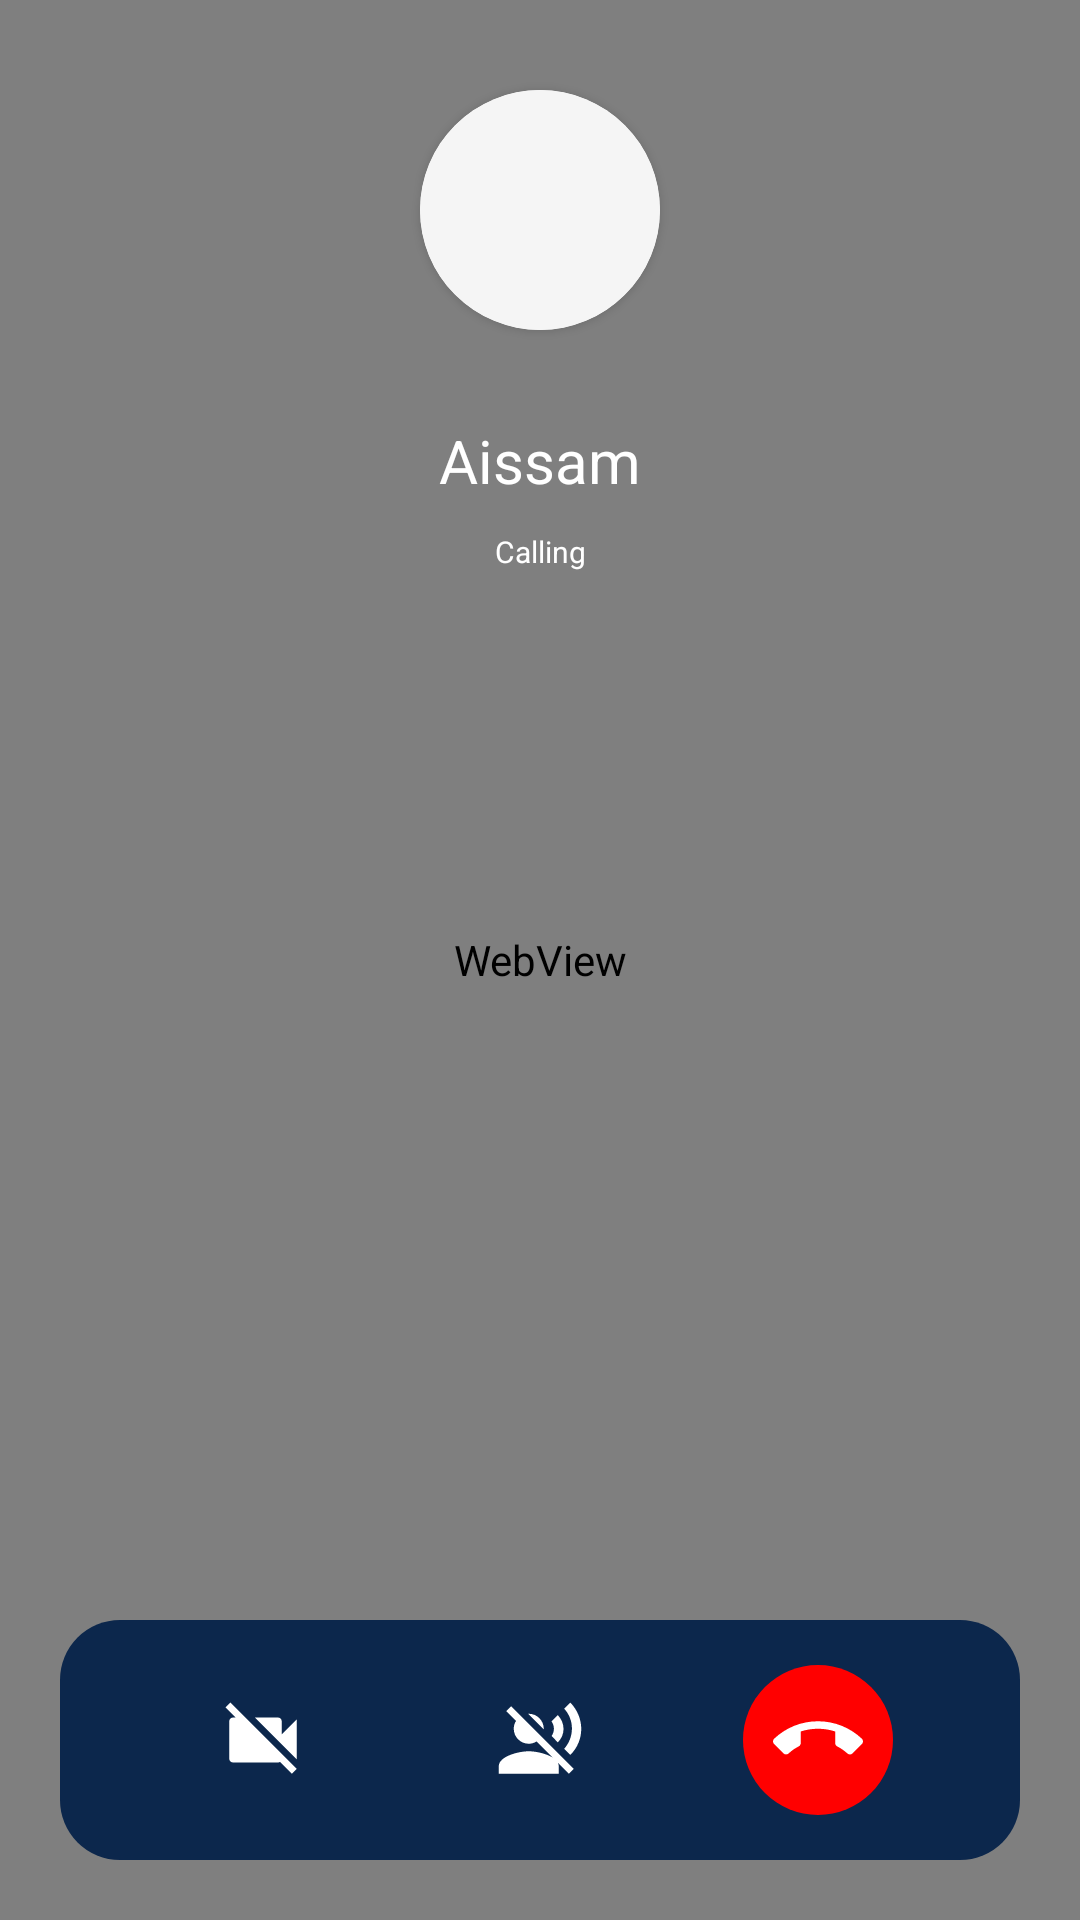

Locate icon controls on the screen. Image size 1080 x 1920, boxes as bbox=[x1, y1, x2, y2].
call end: bbox=[743, 1665, 893, 1815]
videocam off: bbox=[225, 1702, 297, 1774]
voice off: bbox=[498, 1702, 582, 1774]
